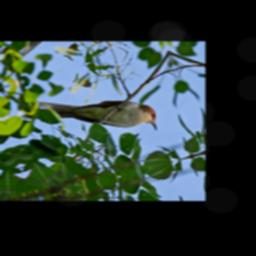Cuckoo: (17, 70, 163, 164)
